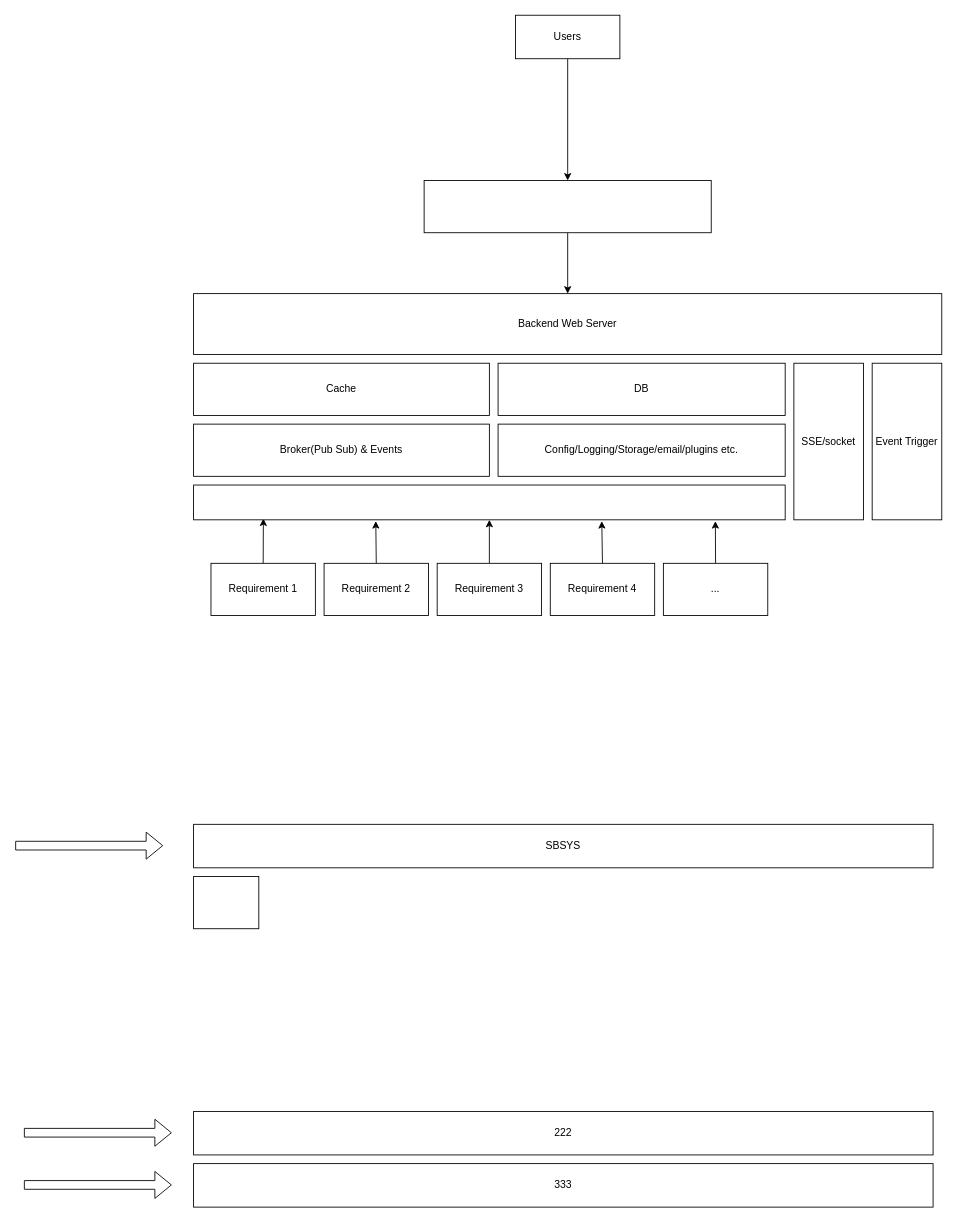
Image size: 957x1222. Some labels were removed from this diagram. Here are the shapes that lost their labels. From the top down, the centre of each, then its label:
the point at 567,206: Middlewares
the point at 489,502: HTTP Listener&Handler
the point at 226,902: new subscriber
